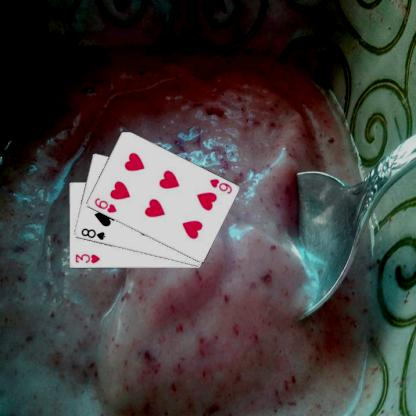3H: (73, 252, 101, 264)
6H: (207, 176, 233, 195), (92, 196, 117, 214)
8S: (78, 226, 106, 241)
